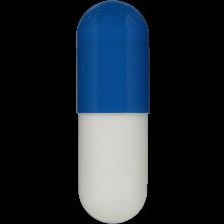31722-377: (0, 0, 224, 224)
